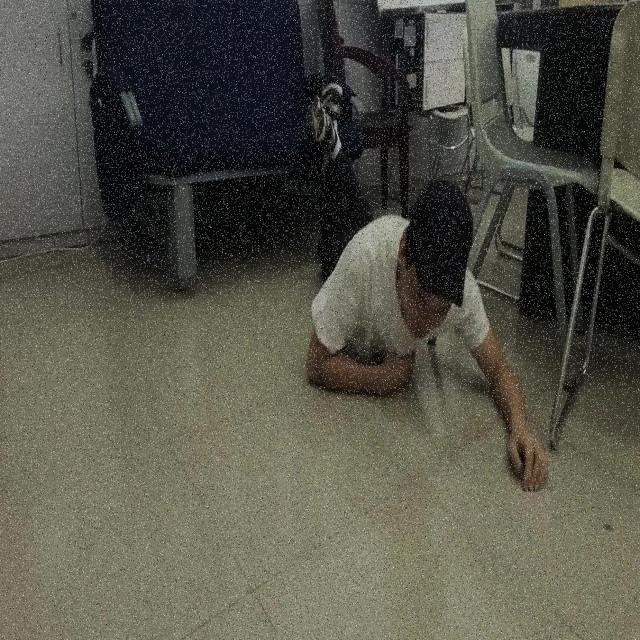fall: (304, 78, 546, 494)
